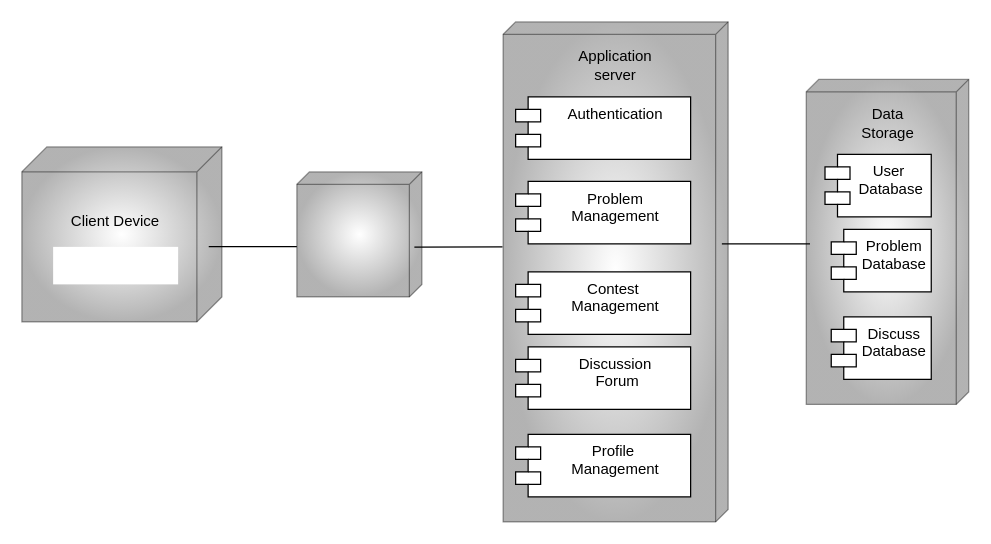
This 991x544 diagram has some shape labels left out. The shapes that lost their labels are listed below. From the top down, each one's centre as x and y in pixels, then its label:
At [359,234]: "Load Balancer".
At [115,265]: "web Browser".
